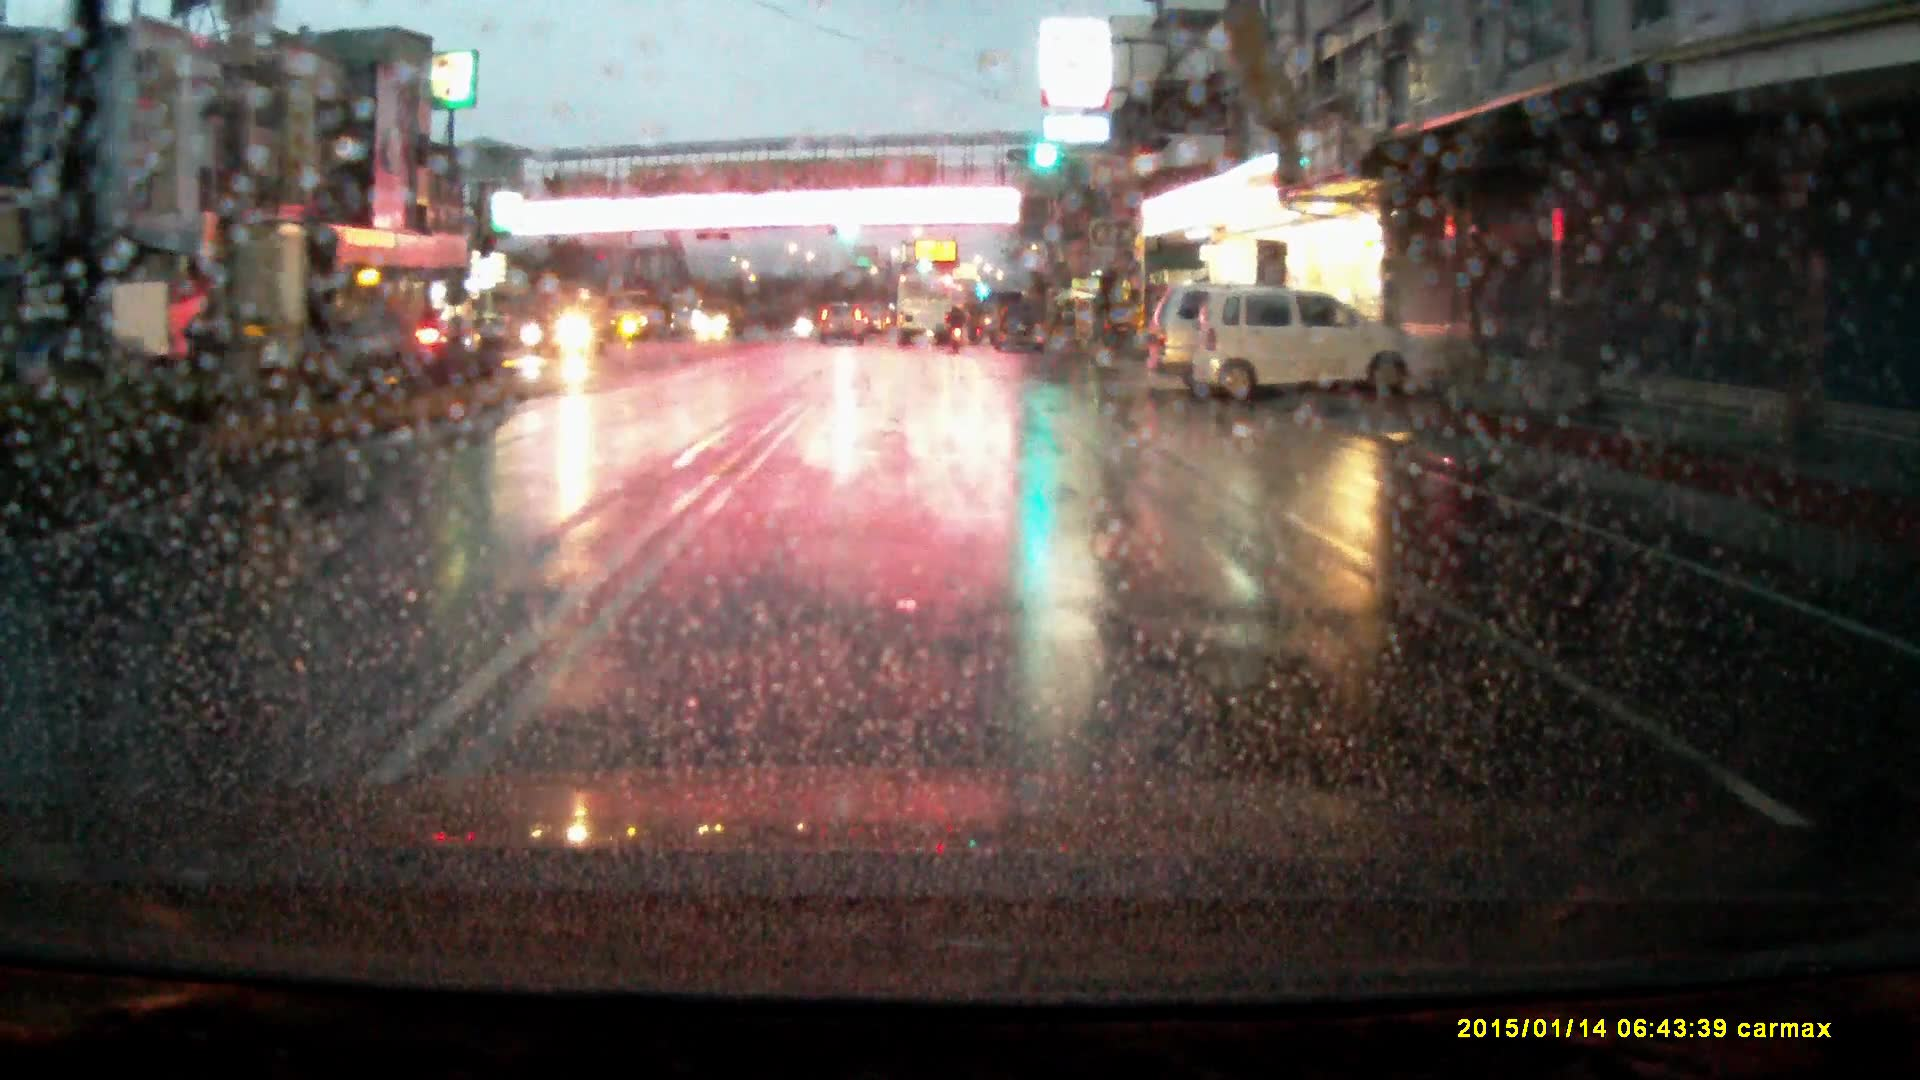rider: (947, 309, 967, 361)
vehicle: (1195, 293, 1441, 417), (1146, 286, 1296, 394), (22, 284, 173, 383), (519, 294, 614, 362), (898, 277, 951, 346), (989, 303, 1051, 357), (693, 298, 746, 341), (819, 304, 867, 348)
